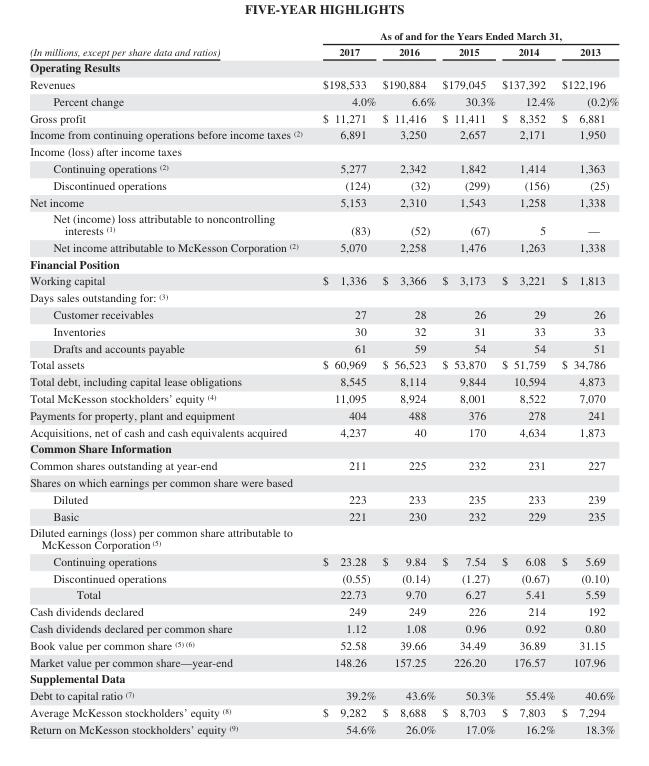table: (29, 29, 618, 735)
table column: (29, 29, 311, 735), (311, 29, 378, 735), (557, 29, 618, 735), (378, 29, 438, 735), (438, 29, 498, 735), (498, 29, 557, 735)
table column header: (29, 29, 618, 58)
table projected row header: (29, 524, 618, 552), (29, 58, 618, 75), (29, 142, 618, 159), (29, 255, 618, 272), (29, 288, 618, 305), (29, 439, 618, 456), (29, 473, 618, 490), (29, 669, 618, 686)
table row: (29, 210, 618, 238), (29, 524, 618, 552), (29, 58, 618, 75), (29, 75, 618, 92), (29, 92, 618, 109), (29, 109, 618, 126), (29, 142, 618, 159), (29, 159, 618, 176), (29, 176, 618, 193), (29, 193, 618, 210), (29, 238, 618, 255), (29, 255, 618, 272), (29, 288, 618, 305), (29, 305, 618, 322), (29, 322, 618, 339), (29, 339, 618, 356), (29, 372, 618, 389), (29, 389, 618, 406), (29, 406, 618, 423), (29, 439, 618, 456), (29, 456, 618, 473), (29, 473, 618, 490), (29, 490, 618, 507), (29, 507, 618, 524), (29, 552, 618, 569), (29, 569, 618, 586), (29, 602, 618, 619), (29, 619, 618, 636), (29, 636, 618, 653), (29, 669, 618, 686), (29, 686, 618, 703), (29, 703, 618, 720), (29, 126, 618, 142), (29, 272, 618, 288), (29, 356, 618, 372), (29, 423, 618, 439), (29, 586, 618, 602), (29, 653, 618, 669), (29, 43, 618, 58), (29, 720, 618, 735), (29, 29, 618, 43)
table spanning cell: (29, 29, 311, 58), (311, 29, 618, 43)
